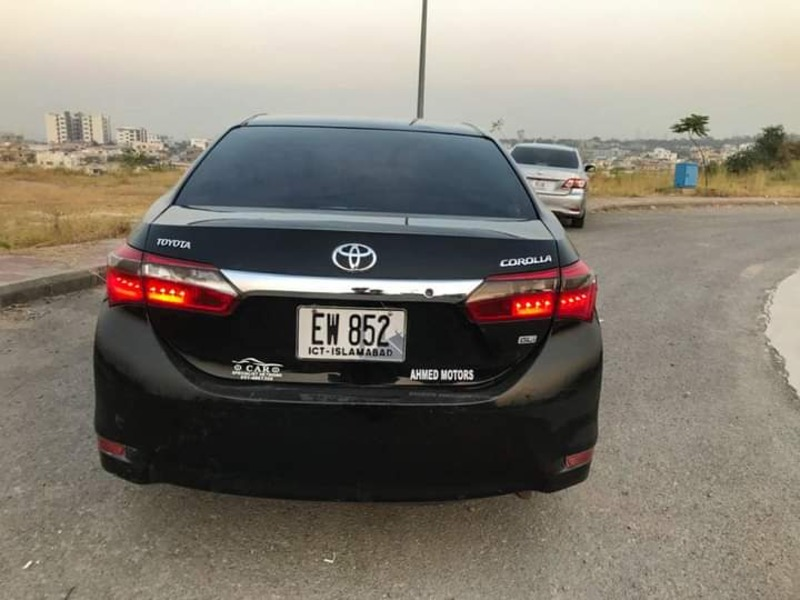License Plate: (289, 300, 414, 367)
